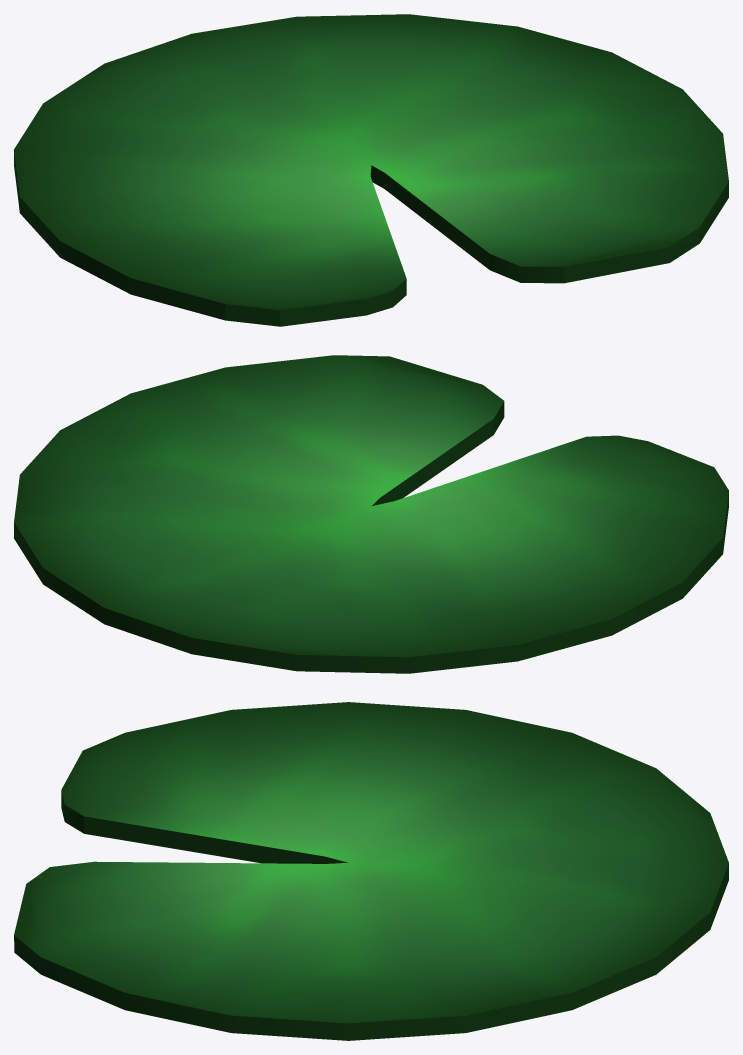
File: Nenufar1.fbx
The picture shows the model from 3 angles, top to bottom: view 1: azimuth 30°, elevation 25°; view 2: azimuth 150°, elevation 25°; view 3: azimuth 270°, elevation 25°; orthographic projection. The views are drawn at different scales.
Parts seen in each view (by area): view 1: Nenufar1; view 2: Nenufar1; view 3: Nenufar1.
Boxes of the visible parts, box(x1,y1,x2,y2) form: Nenufar1: box(14, 14, 728, 326); Nenufar1: box(14, 355, 728, 673); Nenufar1: box(14, 702, 728, 1040).
Bounding box in the file's own units: 50 × 1.26 × 47.
Materials: 1 (1 with a texture image).
